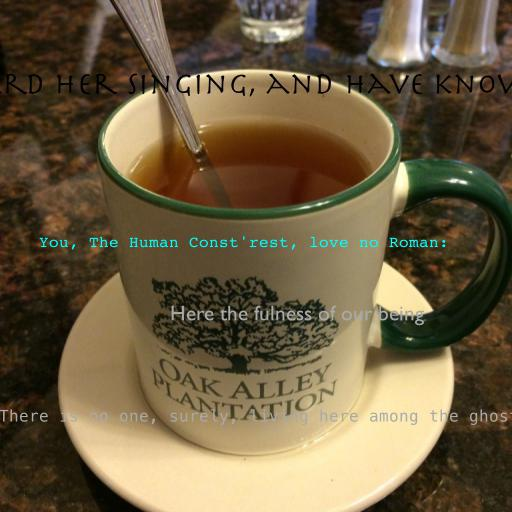Courier: (39, 236, 449, 250)
Gill Sans: (170, 305, 424, 326)
Herculanum: (0, 73, 512, 97)
Menlo: (0, 409, 512, 425)
